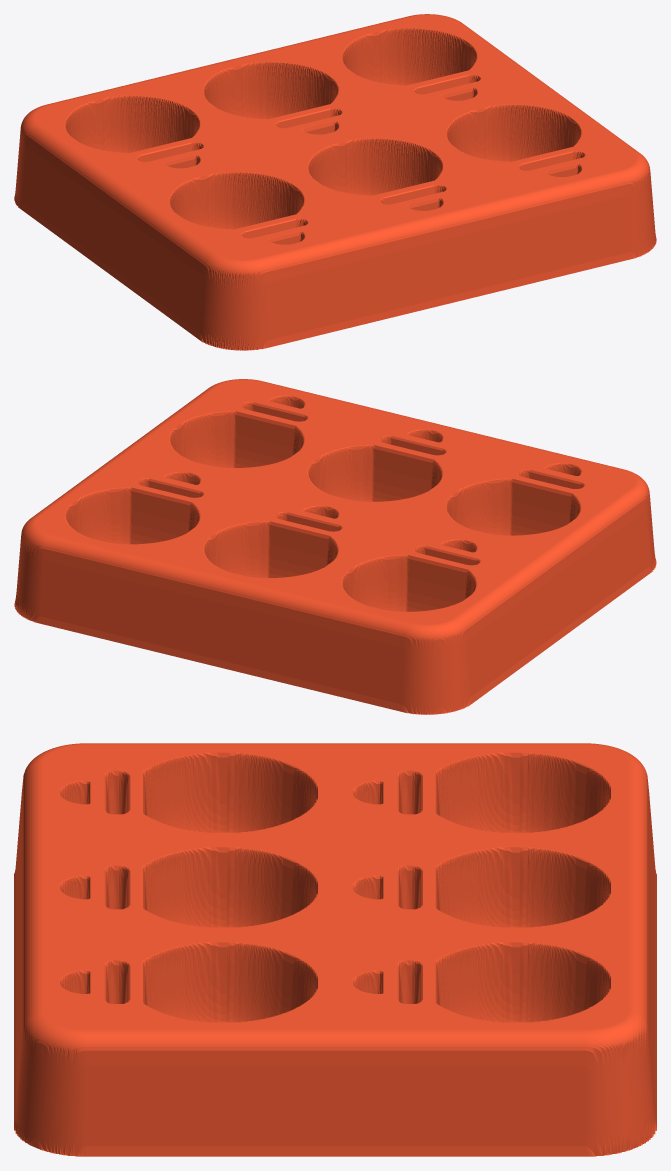
The model's file is mold.glb.
The picture shows the model from 3 angles, top to bottom: view 1: azimuth 30°, elevation 25°; view 2: azimuth 150°, elevation 25°; view 3: azimuth 270°, elevation 25°; orthographic projection. The views are drawn at different scales.
Parts seen in each view (by area): view 1: geometry_0; view 2: geometry_0; view 3: geometry_0.
Boxes of the visible parts, left/top/right/bottom form: geometry_0: left=14, top=14, right=656, bottom=350; geometry_0: left=14, top=379, right=656, bottom=714; geometry_0: left=14, top=743, right=656, bottom=1156.
Size of the model in its own units: 0.0918 by 0.0159 by 0.0808.
